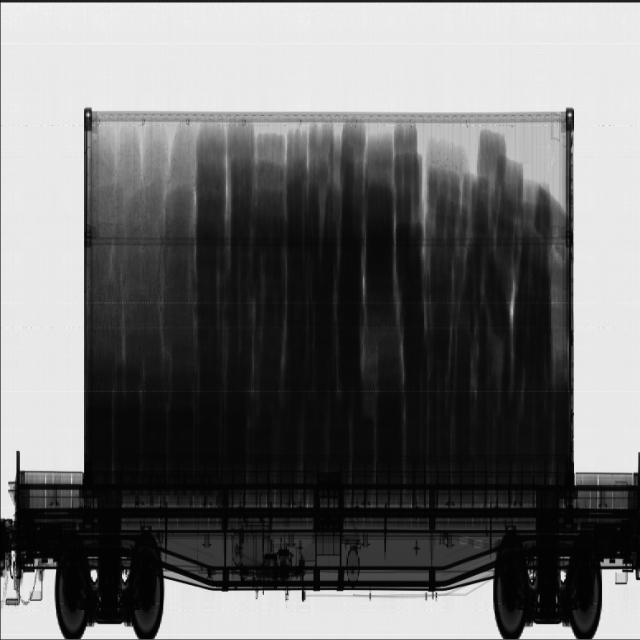clothes: (86, 122, 566, 479)
textiles: (85, 127, 195, 347)
